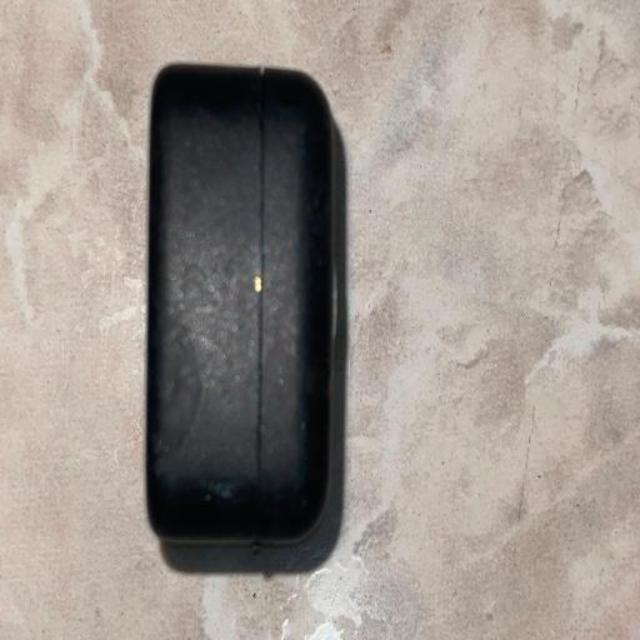HDPE: (145, 63, 348, 573)
